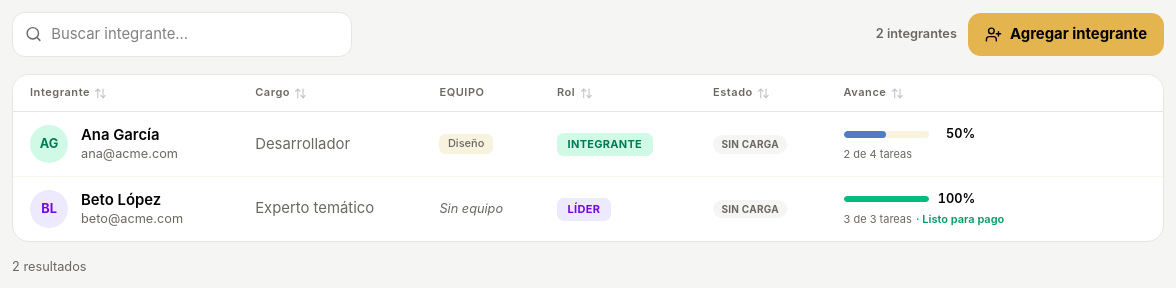
it: MembersPanel › shows a no-results message when nothing matches
Expected: the text "Ana García" is shown, [81,126,160,144]
Type "zzz" into the search field labelled "Buscar integrante" at x=182, y=34, box [12,12,352,56]
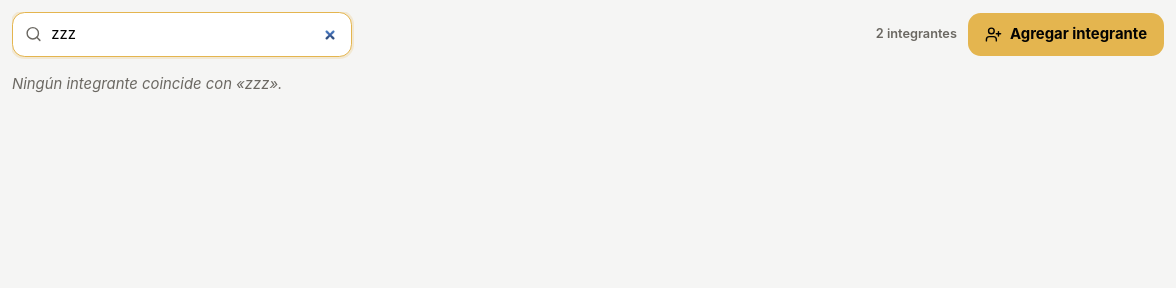
Expected: the text "Ningún integrante coincide con «zzz»." is shown, [12,74,282,92]
